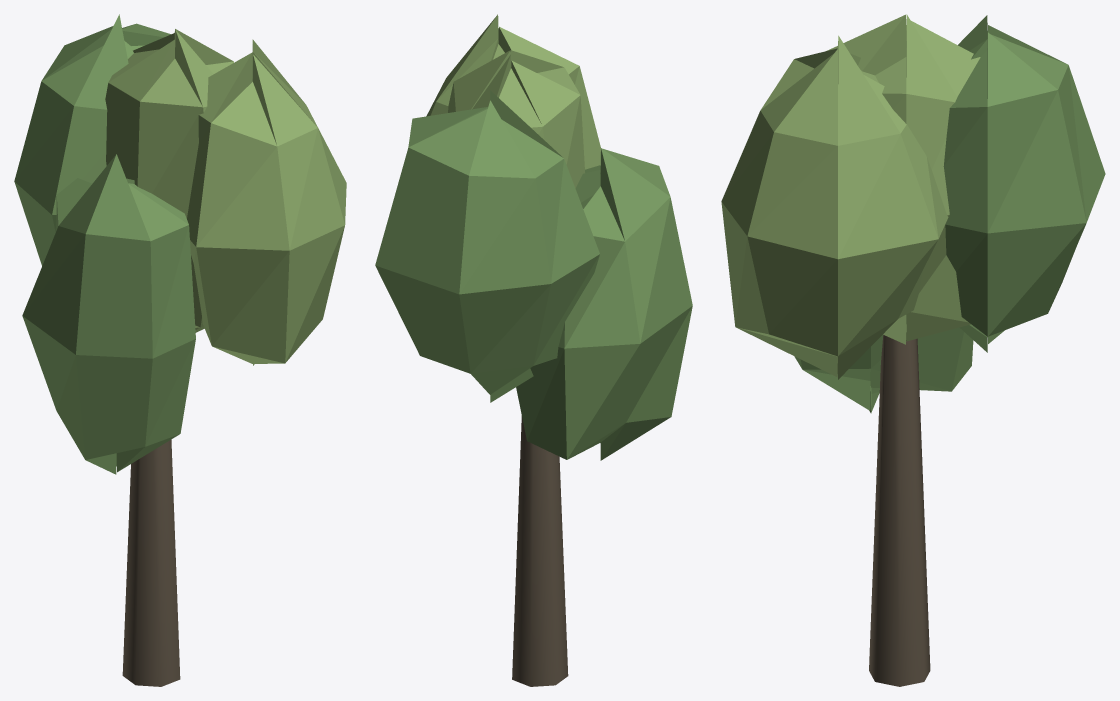
Rendered from ornamental_tree_variant_02_lod1.glb.
The picture shows the model from 3 angles, left to right: view 1: azimuth 30°, elevation 25°; view 2: azimuth 150°, elevation 25°; view 3: azimuth 270°, elevation 25°; orthographic projection. The views are drawn at different scales.
Visible parts, largest first — view 1: static_leaf_oak, static_leaf_light, trunk; view 2: static_leaf_oak, static_leaf_light, trunk; view 3: static_leaf_light, static_leaf_oak, trunk.
Boxes of the visible parts, x1,y1,x2,y2 form: static_leaf_oak: [14, 14, 195, 474]; static_leaf_light: [105, 29, 346, 365]; trunk: [122, 439, 180, 686]; static_leaf_oak: [375, 90, 692, 460]; static_leaf_light: [426, 14, 600, 188]; trunk: [512, 416, 568, 686]; static_leaf_light: [721, 14, 980, 379]; static_leaf_oak: [794, 15, 1105, 413]; trunk: [869, 335, 930, 686].
Size of the model in its own units: 2.18 by 4.72 by 2.44.
